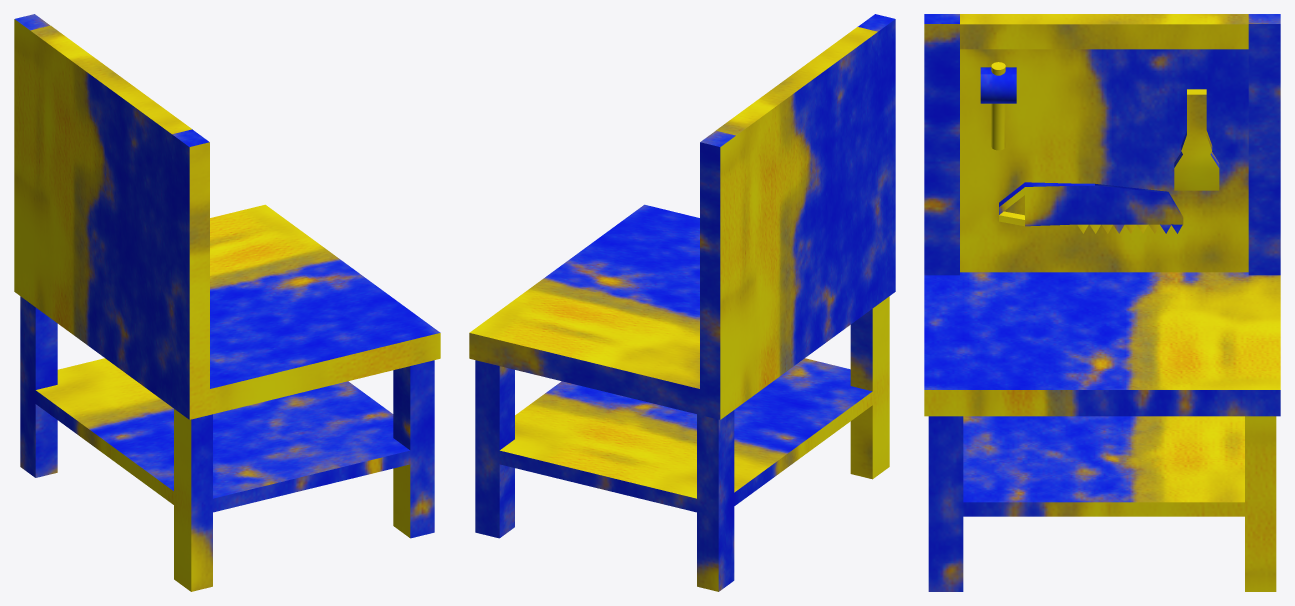
The picture shows the model from 3 angles, left to right: view 1: azimuth 30°, elevation 25°; view 2: azimuth 150°, elevation 25°; view 3: azimuth 270°, elevation 25°; orthographic projection.
Parts seen in each view (by area): view 1: pMesh1; view 2: pMesh1; view 3: pMesh1.
Part boxes in pixels (x1,y1,x2,y2): pMesh1: [14, 14, 440, 591]; pMesh1: [469, 14, 895, 591]; pMesh1: [924, 14, 1280, 591].
Bounding box in the file's own units: 1.17 × 2 × 1.42.
